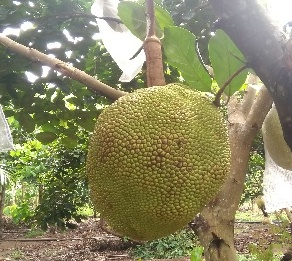Mit: (88, 86, 231, 241)
